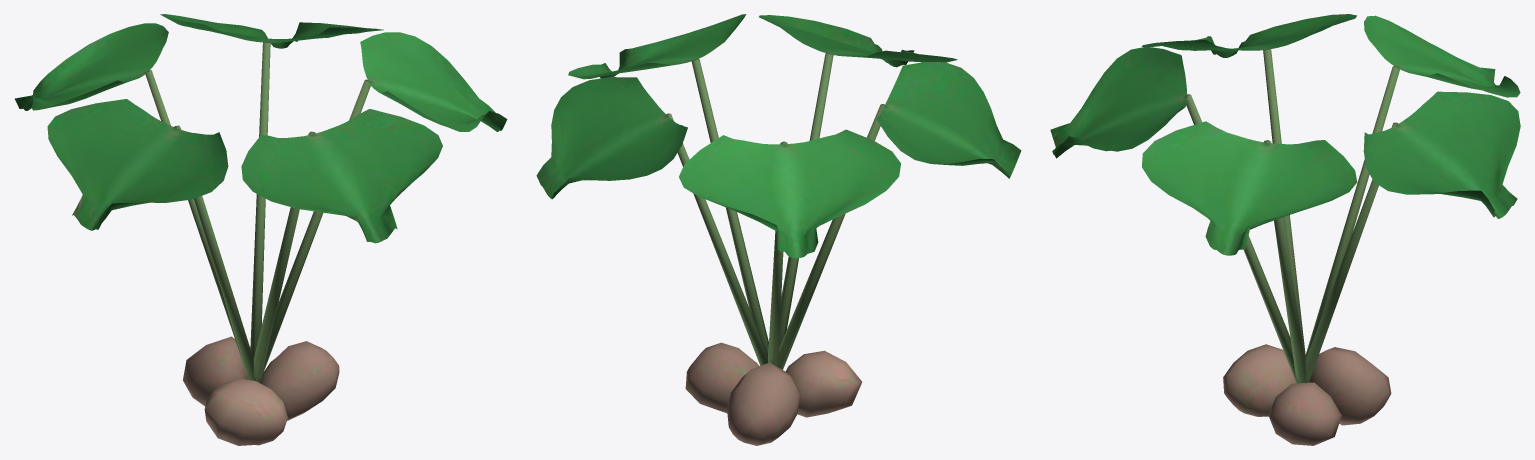
File: crop_taro.glb
The picture shows the model from 3 angles, left to right: view 1: azimuth 30°, elevation 25°; view 2: azimuth 150°, elevation 25°; view 3: azimuth 270°, elevation 25°; orthographic projection.
Parts seen in each view (by area): view 1: crop_taro, fruit; view 2: crop_taro, fruit; view 3: crop_taro, fruit.
Part boxes in pixels (box(x1,y1,x2,y2)): crop_taro: box(15, 14, 507, 382); fruit: box(183, 336, 339, 445); crop_taro: box(536, 14, 1021, 369); fruit: box(685, 342, 862, 445); crop_taro: box(1050, 14, 1520, 383); fruit: box(1223, 344, 1391, 445).
Size of the model in its own units: 0.404 by 0.3176 by 0.3904.
1 material, 1 textured.
